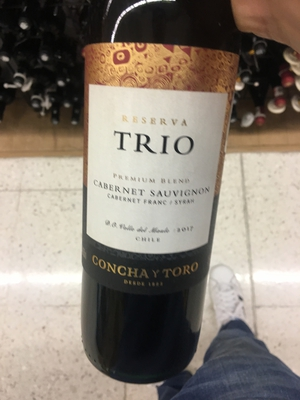trio cabernet sauvignon: (71, 17, 245, 360)
